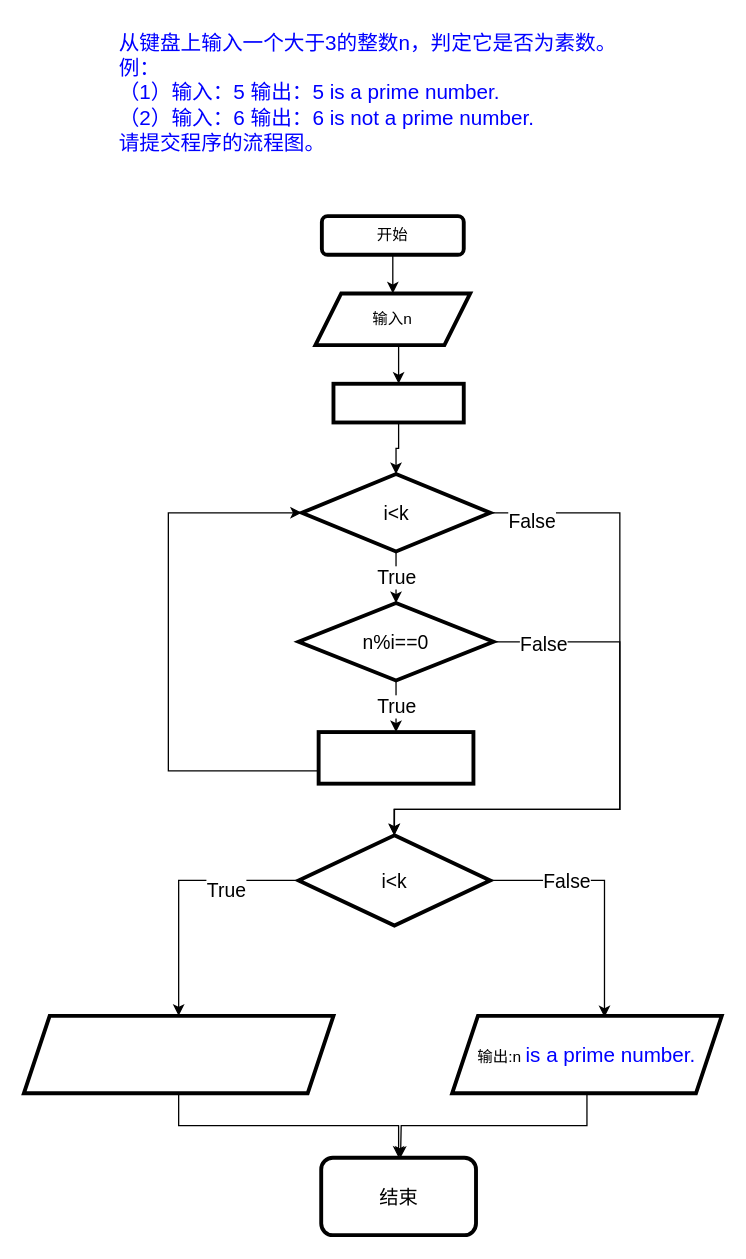
The diagram is 746 pixels wide and 1259 high, and some of its shapes have lost their labels. Each missing label, with the centre of its shape:
"i++" goes at pixel 395 757.
"k=sqrt(n)" goes at pixel 398 402.
"输出:n is not a prime number." goes at pixel 178 1054.
